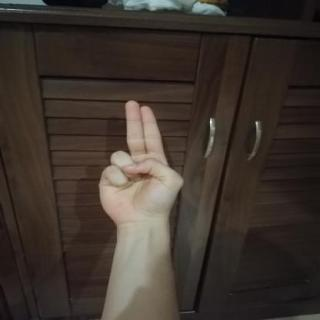TA: (82, 92, 193, 235)
